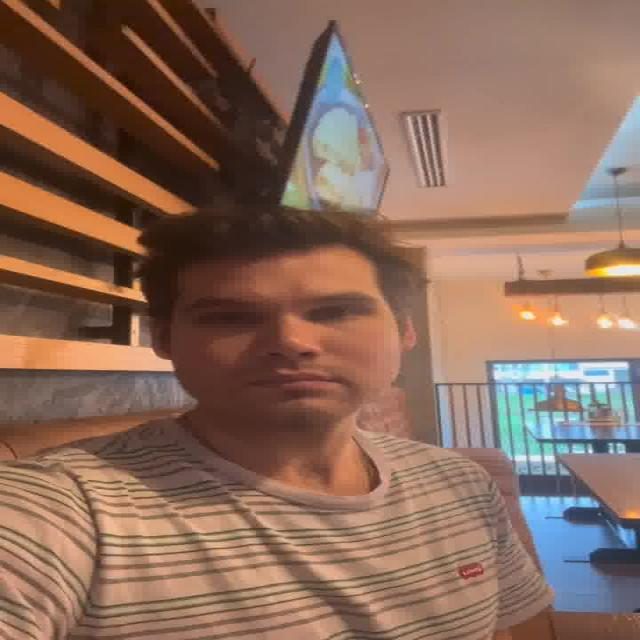earlobe: (152, 344, 172, 360), (398, 338, 418, 353)
eye: (312, 305, 361, 319), (198, 312, 254, 324)
nose: (262, 353, 320, 371)
wholeear: (149, 317, 172, 360), (397, 314, 418, 353)
